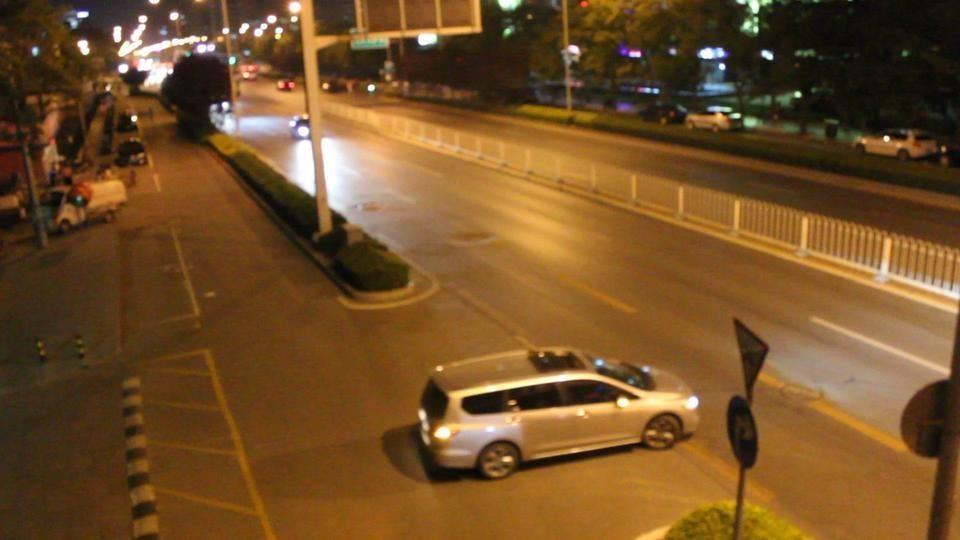car: (415, 345, 702, 482), (51, 173, 129, 230), (855, 129, 948, 164), (686, 110, 738, 132), (114, 139, 148, 167), (321, 76, 349, 93), (240, 63, 259, 80), (276, 79, 298, 91)
